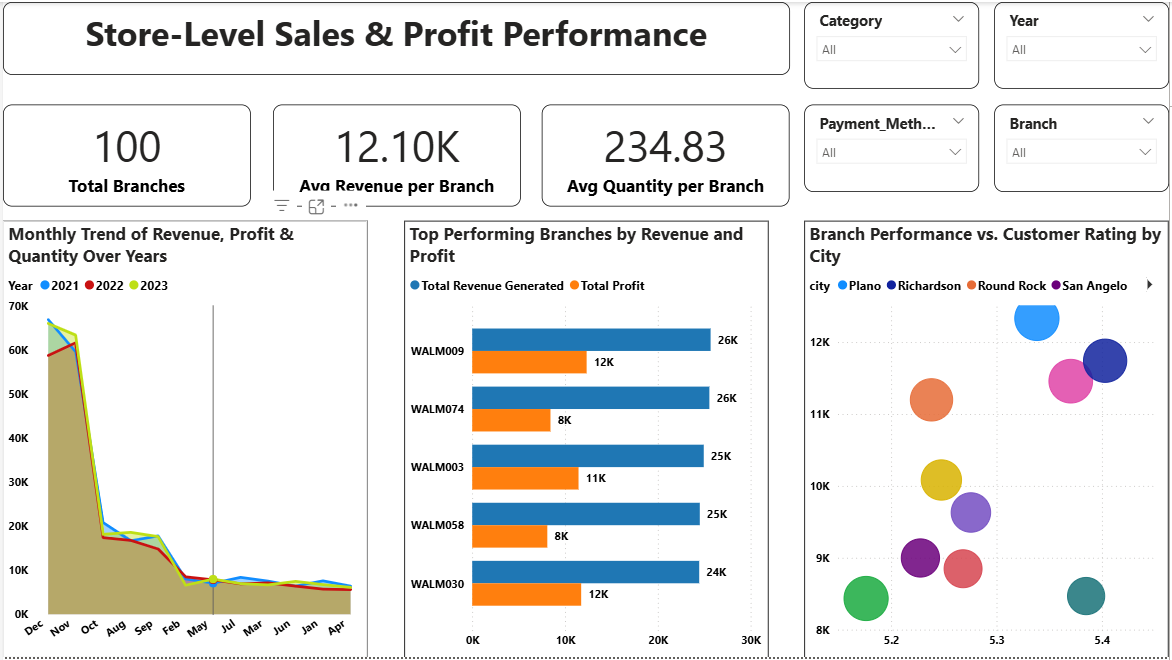

The dashboard page shown, as its layout file describes it:
{"tool":"powerbi","page":{"name":"Page 2","canvas":[1280,720],"ordinal":1},"visuals":[{"type":"card","fields":{"Values":["Calculated_Measures.Total Branches"]},"box":[0,112,272,112],"z":0},{"type":"card","fields":{"Values":["Calculated_Measures.Avg Revenue per Branch"]},"box":[296,112,272,112],"z":1000},{"type":"card","fields":{"Values":["Calculated_Measures.Avg Quantity per Branch"]},"box":[592,112,272,112],"z":2000},{"type":"clusteredBarChart","title":"Top Performing Branches by Revenue and Profit","fields":{"Category":["Walmart_Sales.branch"],"Y":["Calculated_Measures.Total Revenue","Calculated_Measures.Total Profit"]},"box":[440,240,400,480],"z":3000},{"type":"areaChart","title":"Monthly Trend of Revenue, Profit & Quantity Over Years","fields":{"Category":["Walmart_Sales.Month"],"Y":["Calculated_Measures.Total Revenue"],"Series":["Walmart_Sales.Year"]},"box":[0,240,400,480],"z":4000},{"type":"scatterChart","title":"Branch Performance vs. Customer Rating by City","fields":{"X":["Calculated_Measures.Avg Rating"],"Y":["Calculated_Measures.Total Profit"],"Size":["Calculated_Measures.Total Revenue"],"Series":["Walmart_Sales.city"],"Category":["Walmart_Sales.branch"]},"box":[880,240,400,480],"z":5000},{"type":"slicer","fields":{"Values":["Walmart_Sales.Year"]},"box":[1088,0,192,95],"z":6000},{"type":"slicer","fields":{"Values":["Walmart_Sales.branch"]},"box":[1088,112,192,96],"z":7000},{"type":"slicer","fields":{"Values":["Walmart_Sales.category"]},"box":[880,0,192,95],"z":8000},{"type":"slicer","fields":{"Values":["Walmart_Sales.payment_method"]},"box":[880,112,192,96],"z":9000},{"type":"textbox","box":[0,0,864,80],"z":10000}]}

Visuals, with their boxes in screenshot pixels (x1, y1, x2, y2), scaled from the page's 1280x720 canvas onto the 1172x660 screenshot:
card - Calculated_Measures.Total Branches: (x1=0, y1=103, x2=249, y2=205)
card - Calculated_Measures.Avg Revenue per Branch: (x1=271, y1=103, x2=520, y2=205)
card - Calculated_Measures.Avg Quantity per Branch: (x1=542, y1=103, x2=791, y2=205)
"Top Performing Branches by Revenue and Profit" clusteredBarChart: (x1=403, y1=220, x2=769, y2=659)
"Monthly Trend of Revenue, Profit & Quantity Over Years" areaChart: (x1=0, y1=220, x2=366, y2=659)
"Branch Performance vs. Customer Rating by City" scatterChart: (x1=806, y1=220, x2=1171, y2=659)
slicer - Walmart_Sales.Year: (x1=996, y1=0, x2=1171, y2=87)
slicer - Walmart_Sales.branch: (x1=996, y1=103, x2=1171, y2=191)
slicer - Walmart_Sales.category: (x1=806, y1=0, x2=982, y2=87)
slicer - Walmart_Sales.payment_method: (x1=806, y1=103, x2=982, y2=191)
textbox: (x1=0, y1=0, x2=791, y2=73)
